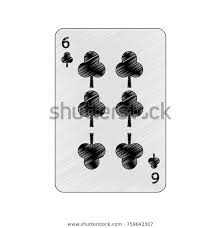six of hearts: (56, 28, 165, 192)
